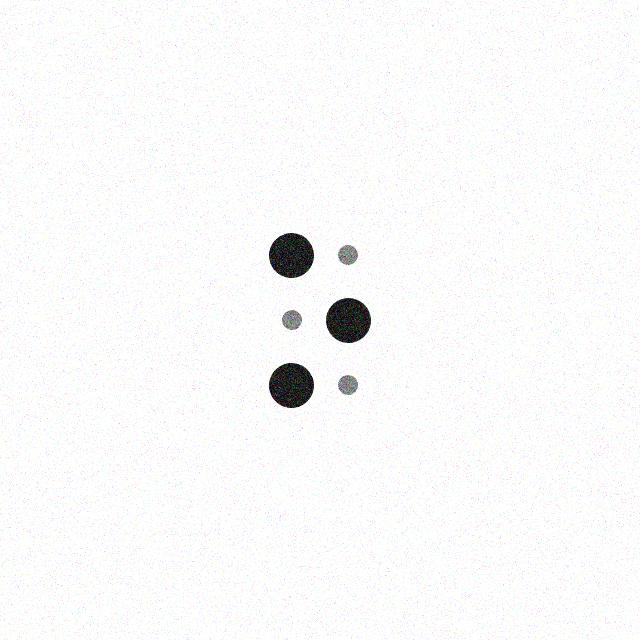O: (263, 228, 373, 414)
